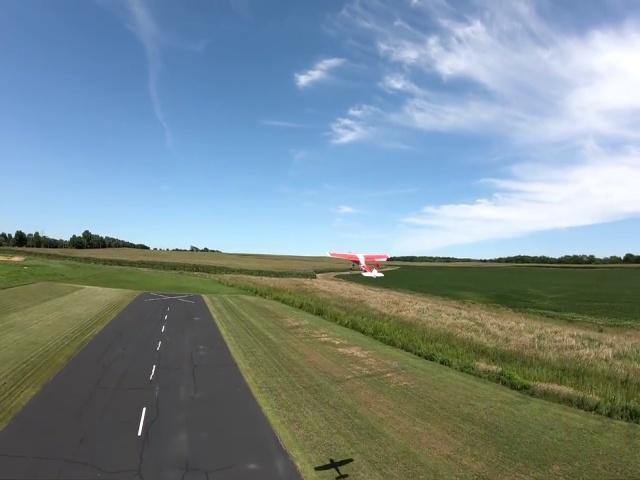Airplane: (326, 249, 388, 279)
